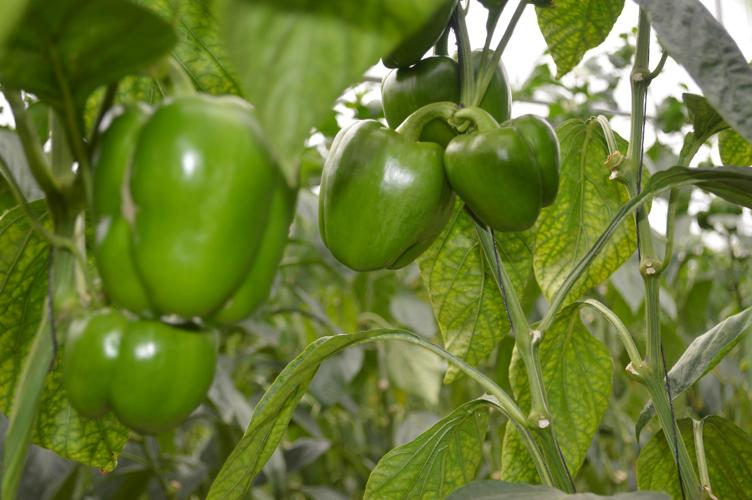BellPepper: (84, 91, 285, 330), (313, 123, 457, 285), (49, 315, 222, 439), (378, 29, 537, 135), (435, 107, 571, 217)
